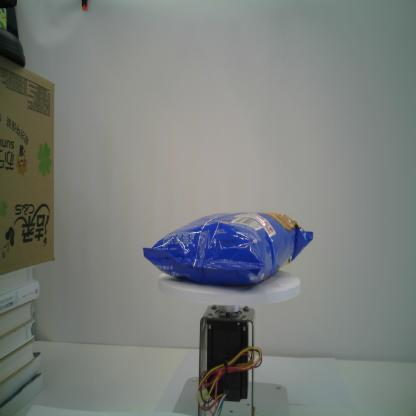Puffed Food: (143, 210, 314, 285)
